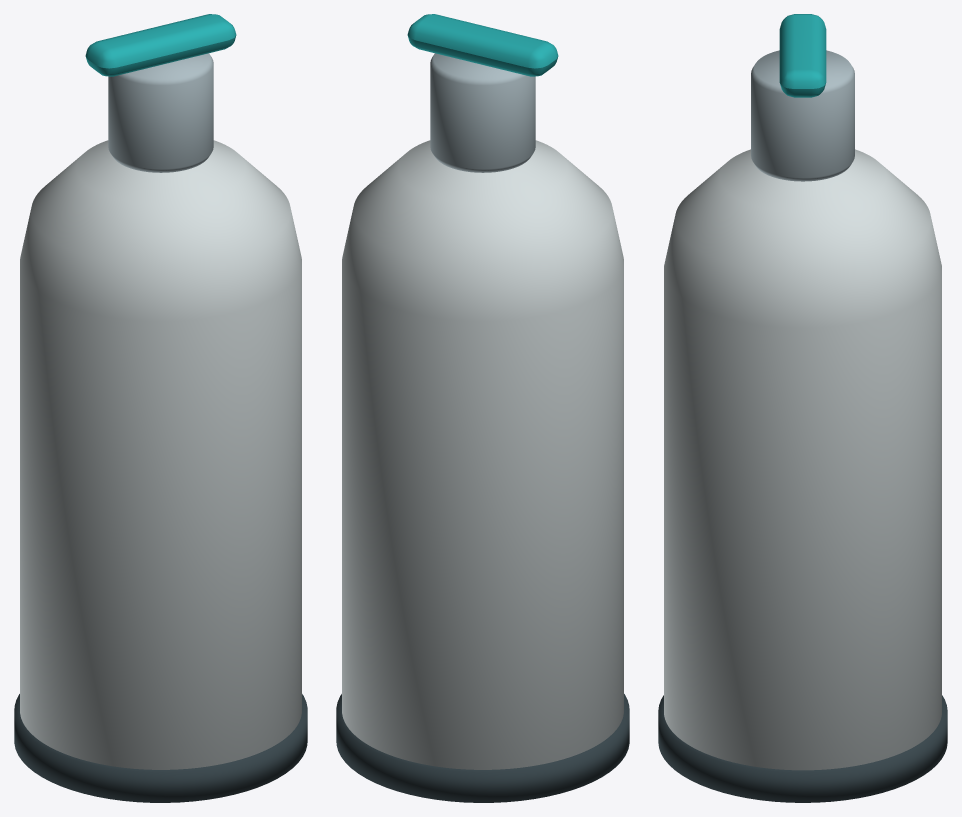
The model's file is cartridge.glb.
3 renders of one model, left to right at view 1: azimuth 30°, elevation 25°; view 2: azimuth 150°, elevation 25°; view 3: azimuth 270°, elevation 25°, orthographic.
Visible parts, largest first — view 1: Cylinder shell, Cylinder regulator, Protective base shoe, Cartridge valve; view 2: Cylinder shell, Cylinder regulator, Protective base shoe, Cartridge valve; view 3: Cylinder shell, Cylinder regulator, Protective base shoe, Cartridge valve.
Part boxes in pixels (bbox=[...]): Cylinder shell: bbox=[20, 140, 301, 769]; Cylinder regulator: bbox=[108, 53, 213, 172]; Protective base shoe: bbox=[14, 694, 307, 802]; Cartridge valve: bbox=[85, 14, 236, 76]; Cylinder shell: bbox=[342, 140, 623, 769]; Cylinder regulator: bbox=[430, 53, 535, 172]; Protective base shoe: bbox=[336, 694, 629, 802]; Cartridge valve: bbox=[407, 14, 558, 76]; Cylinder shell: bbox=[664, 149, 941, 770]; Cylinder regulator: bbox=[751, 50, 854, 181]; Protective base shoe: bbox=[658, 695, 947, 802]; Cartridge valve: bbox=[779, 14, 826, 97].
Size of the model in its own units: 0.156 by 0.425 by 0.156.
